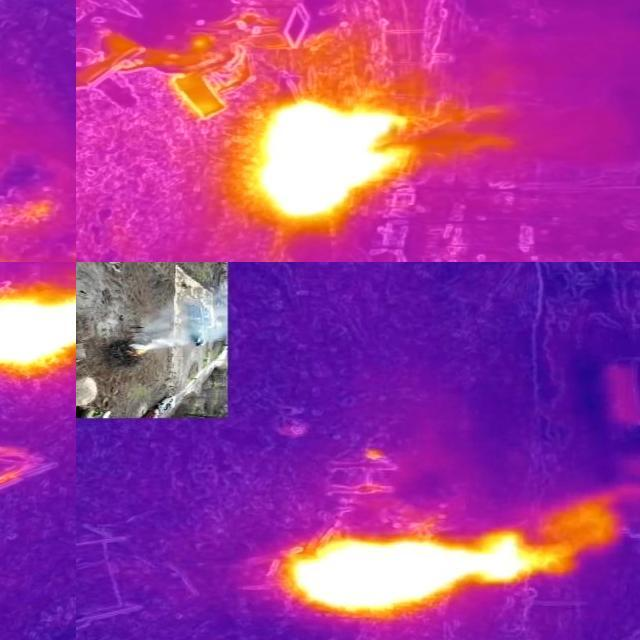fire: (281, 529, 586, 617), (257, 100, 410, 220), (1, 281, 77, 374)
